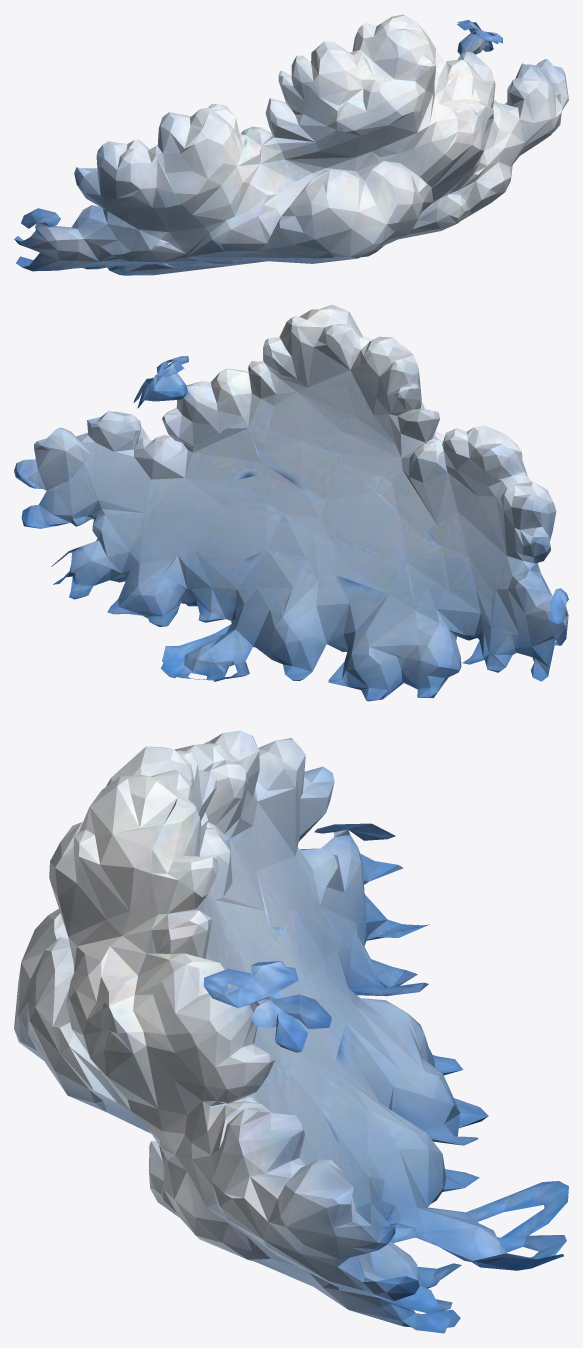
Rendered from cloud1.glb.
The picture shows the model from 3 angles, top to bottom: view 1: azimuth 30°, elevation 25°; view 2: azimuth 150°, elevation 25°; view 3: azimuth 270°, elevation 25°; orthographic projection. The views are drawn at different scales.
Parts seen in each view (by area): view 1: tripo_node_c88fce2d-4508-4f4a-a125-811fed88a7ae; view 2: tripo_node_c88fce2d-4508-4f4a-a125-811fed88a7ae; view 3: tripo_node_c88fce2d-4508-4f4a-a125-811fed88a7ae.
Part boxes in pixels (left/top/right/bottom): tripo_node_c88fce2d-4508-4f4a-a125-811fed88a7ae: left=14, top=14, right=568, bottom=275; tripo_node_c88fce2d-4508-4f4a-a125-811fed88a7ae: left=14, top=304, right=568, bottom=701; tripo_node_c88fce2d-4508-4f4a-a125-811fed88a7ae: left=14, top=730, right=568, bottom=1333.
Size of the model in its own units: 0.9783 by 0.4922 by 0.5262.
1 material, 1 textured.
